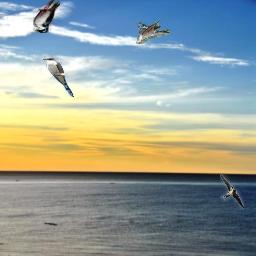Cuckoo: (43, 57, 74, 97), (136, 21, 170, 44)
Swallow: (33, 0, 60, 33), (220, 174, 244, 209)
